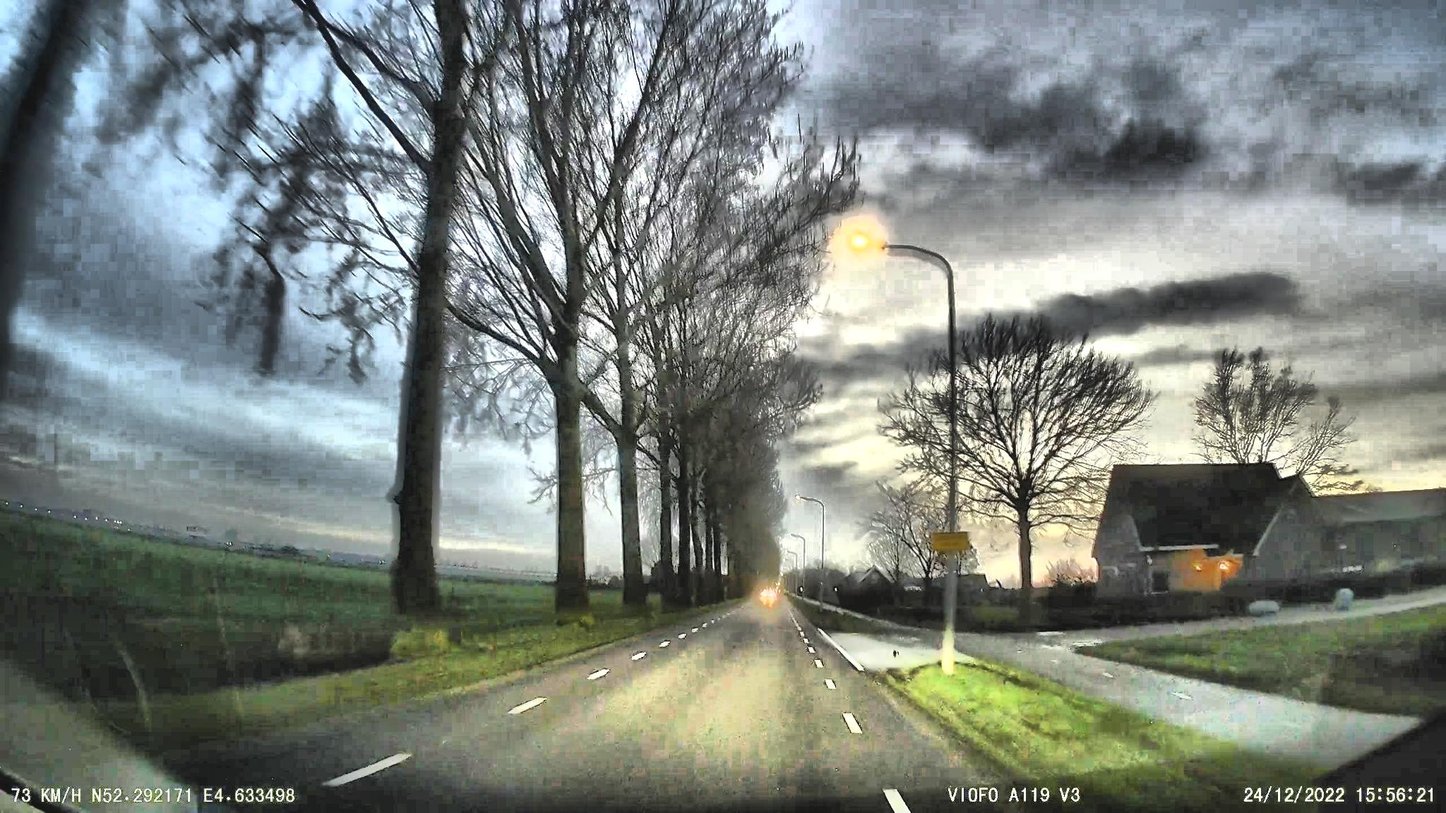Roads: (206, 591, 988, 802)
